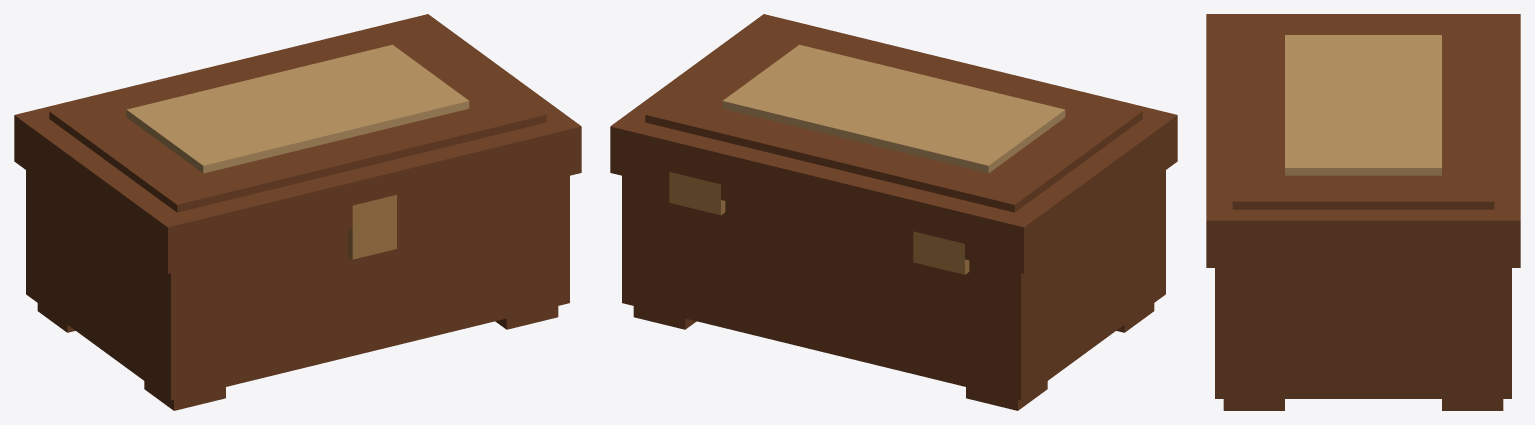
File: box_small_wood.glb
3 renders of one model, left to right at view 1: azimuth 30°, elevation 25°; view 2: azimuth 150°, elevation 25°; view 3: azimuth 270°, elevation 25°, orthographic. The views are drawn at different scales.
Parts seen in each view (by area): view 1: box_small_wood:compound; view 2: box_small_wood:compound; view 3: box_small_wood:compound.
Boxes of the visible parts, bbox=[...] form: box_small_wood:compound: bbox=[14, 14, 581, 410]; box_small_wood:compound: bbox=[610, 14, 1177, 410]; box_small_wood:compound: bbox=[1206, 14, 1520, 410].
Bounding box in the file's own units: 0.224 × 0.108 × 0.144.
